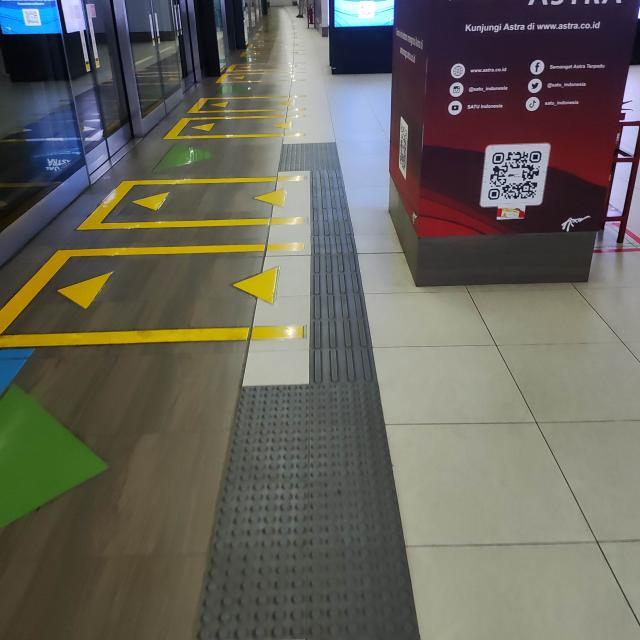lurus: (292, 168, 376, 380)
